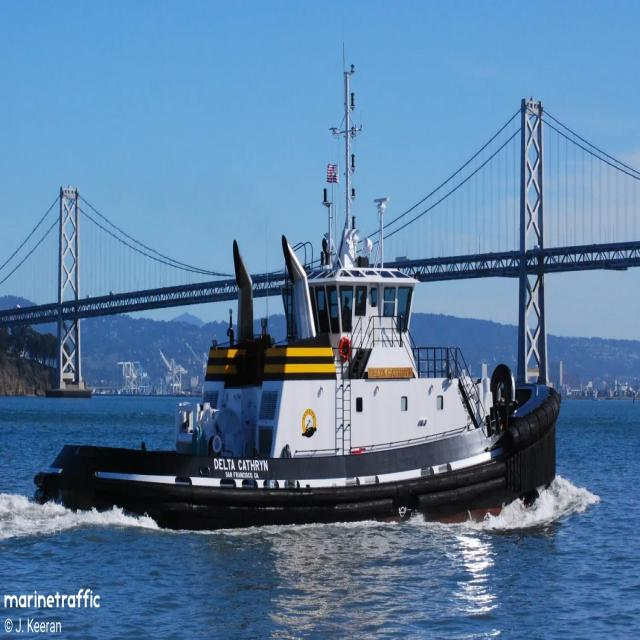Tug: (35, 66, 561, 529)
